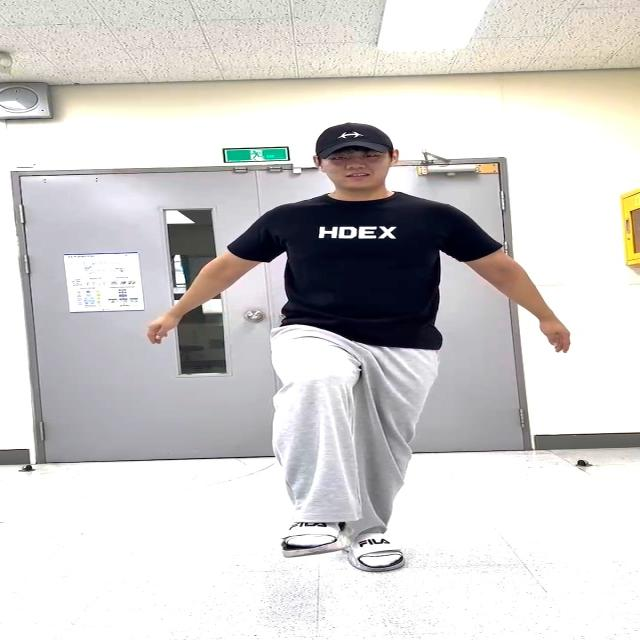leg: (270, 336, 350, 553)
